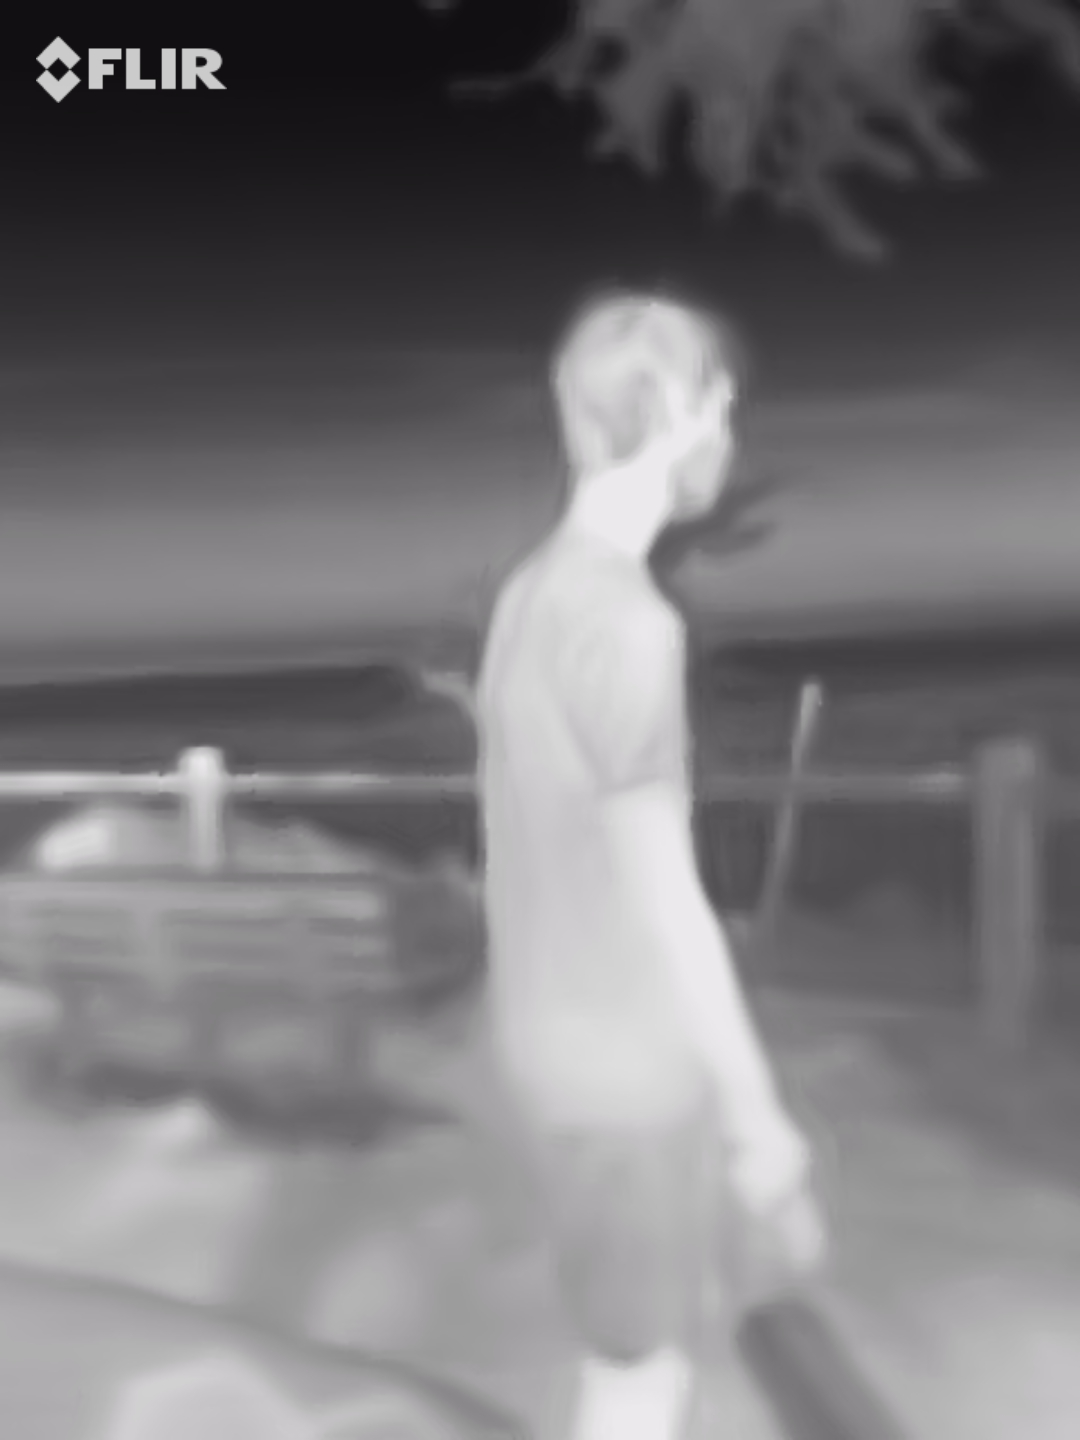head: (551, 289, 741, 534)
